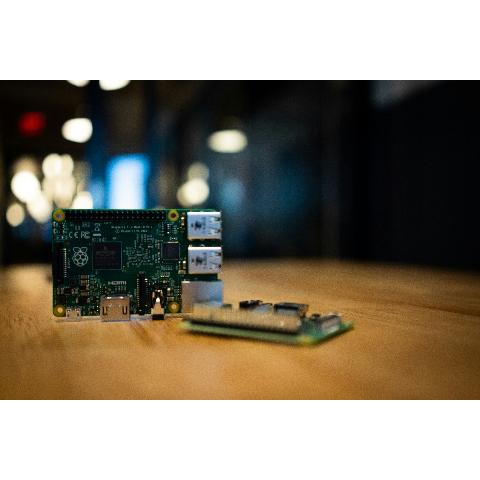Raspberry-Pi-2-Model-B: (47, 202, 229, 324)
